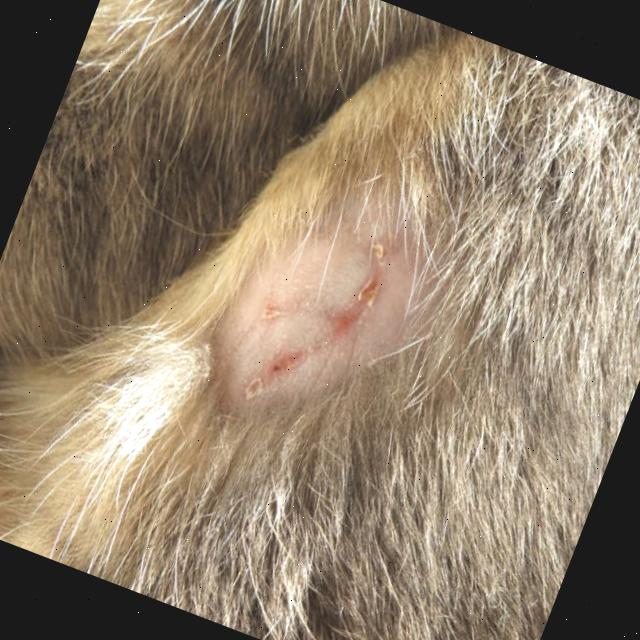cat-lump-and-bump: (188, 140, 487, 472)
